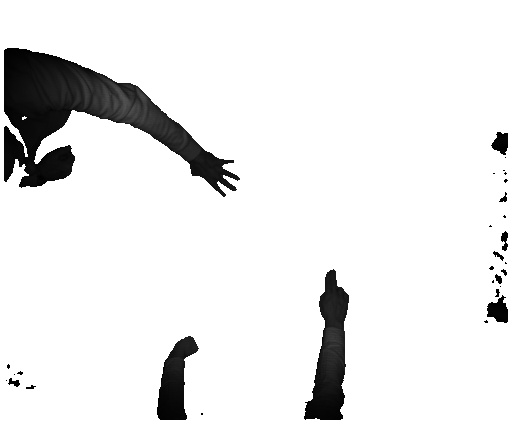fist: (42, 145, 79, 191), (174, 336, 199, 361)
hand: (312, 264, 351, 323), (193, 152, 239, 199)
